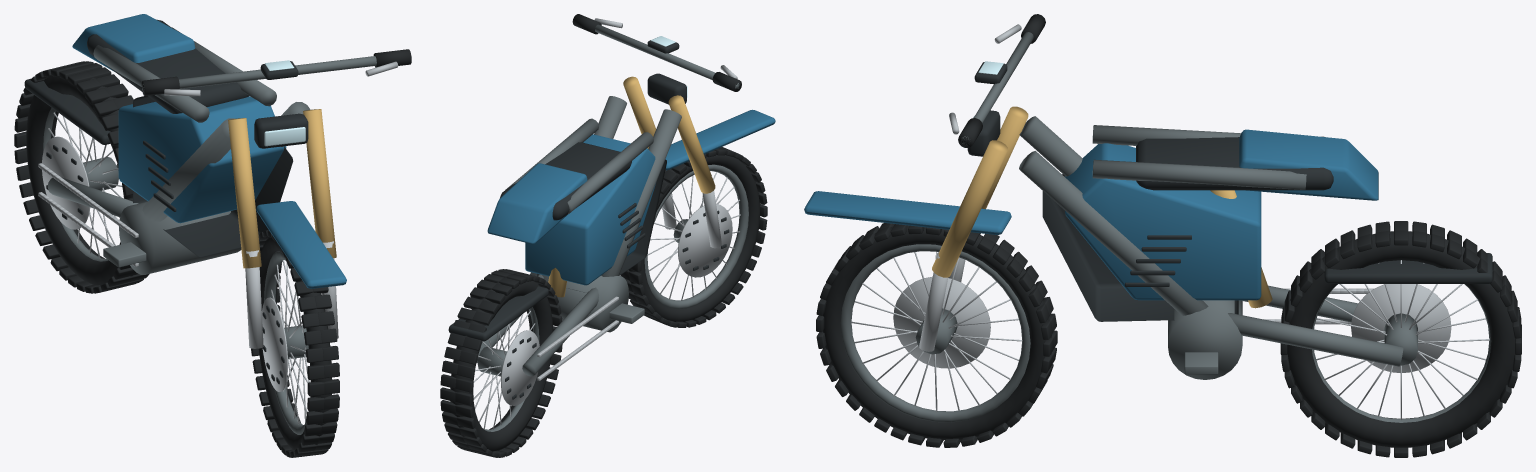
File: Ebike_talaria.glb
3 renders of one model, left to right at view 1: azimuth 30°, elevation 25°; view 2: azimuth 150°, elevation 25°; view 3: azimuth 270°, elevation 25°, orthographic. The views are drawn at different scales.
Parts seen in each view (by area): view 1: Sculpted fairing, Tire.001, Box swingarm, Battery case, Tire, Inverted fork upper, Front mudguard, Steel spoke.024, Steel spoke, Fork stanchion, Handlebar, Rim (+5 smaller); view 2: Sculpted fairing, Tire.001, Box swingarm, Tire, Battery case, Steel spoke, Steel spoke.024, Rim, Inverted fork upper, Front mudguard, Fork stanchion, Display (+5 smaller); view 3: Sculpted fairing, Box swingarm, Tire.001, Tire, Battery case, Steel spoke, Steel spoke.024, Rim, Front mudguard, Inverted fork upper, Rim.001, Fork stanchion (+3 smaller).
Boxes of the visible parts, bbox=[...] form: Sculpted fairing: bbox=[72, 14, 286, 223]; Tire.001: bbox=[14, 61, 149, 293]; Box swingarm: bbox=[47, 27, 310, 274]; Battery case: bbox=[24, 19, 293, 257]; Tire: bbox=[251, 230, 339, 457]; Inverted fork upper: bbox=[228, 109, 336, 268]; Front mudguard: bbox=[256, 201, 346, 288]; Steel spoke.024: bbox=[42, 112, 122, 258]; Steel spoke: bbox=[262, 260, 309, 424]; Fork stanchion: bbox=[164, 61, 398, 348]; Handlebar: bbox=[142, 56, 376, 91]; Rim: bbox=[264, 251, 308, 434]; Sculpted fairing: bbox=[487, 134, 655, 285]; Tire.001: bbox=[440, 269, 562, 457]; Box swingarm: bbox=[476, 96, 681, 376]; Tire: bbox=[620, 147, 767, 327]; Battery case: bbox=[448, 142, 666, 341]; Steel spoke: bbox=[647, 172, 740, 300]; Steel spoke.024: bbox=[473, 310, 539, 429]; Rim: bbox=[644, 164, 748, 308]; Inverted fork upper: bbox=[623, 76, 715, 193]; Front mudguard: bbox=[665, 109, 775, 170]; Fork stanchion: bbox=[594, 18, 737, 248]; Display: bbox=[647, 40, 686, 104]; Sculpted fairing: bbox=[1065, 129, 1378, 300]; Box swingarm: bbox=[1019, 116, 1403, 379]; Tire.001: bbox=[1280, 221, 1521, 457]; Tire: bbox=[816, 223, 1057, 447]; Battery case: bbox=[1042, 136, 1492, 321]; Steel spoke: bbox=[850, 251, 1022, 411]; Steel spoke.024: bbox=[1316, 260, 1489, 420]; Rim: bbox=[840, 244, 1030, 422]; Front mudguard: bbox=[804, 191, 1011, 234]; Inverted fork upper: bbox=[932, 106, 1028, 277]; Rim.001: bbox=[1312, 284, 1491, 422]; Fork stanchion: bbox=[919, 24, 1021, 351].
Size of the model in its own units: 0.7666 by 1.12 by 1.92.
